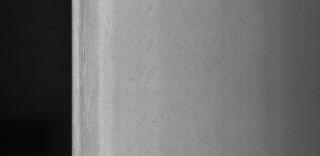silk spot: (128, 5, 196, 132)
